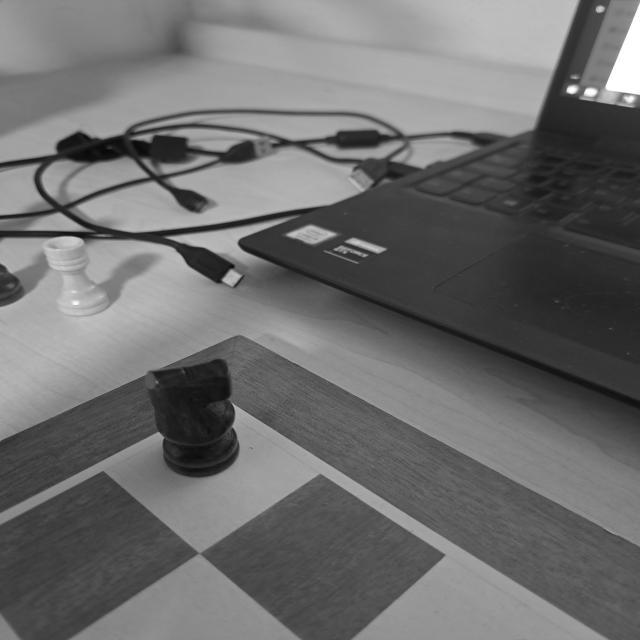chess-table-corners: (149, 386, 290, 452)
